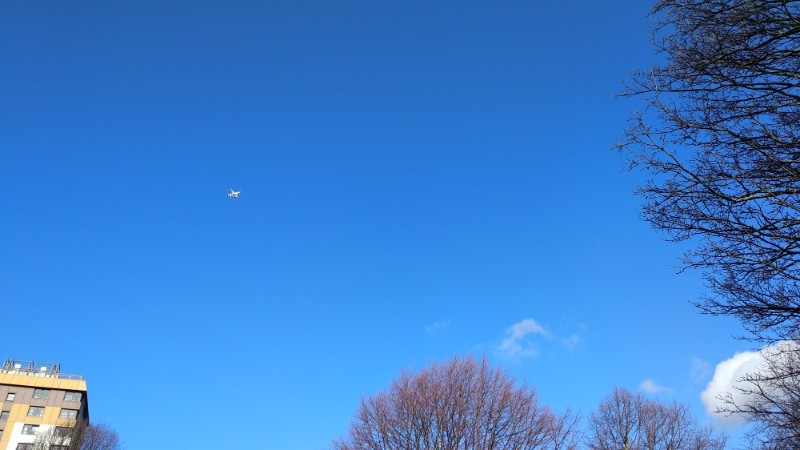drone: (227, 187, 241, 199)
